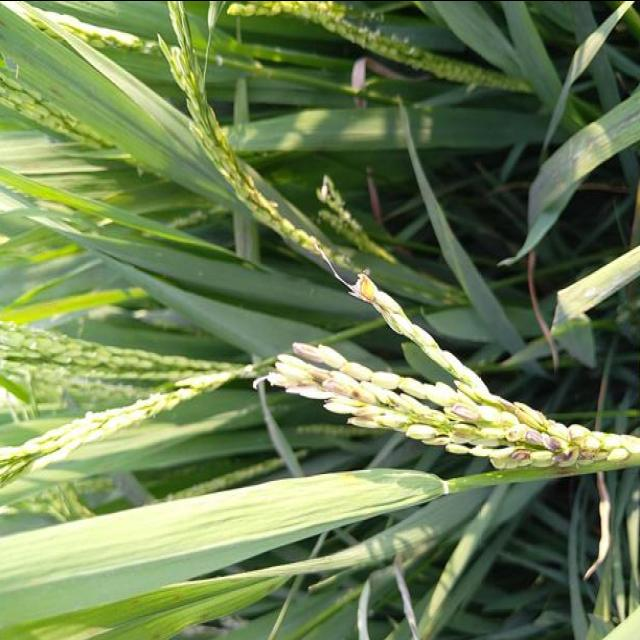Panicle Blight: (266, 271, 640, 470)
